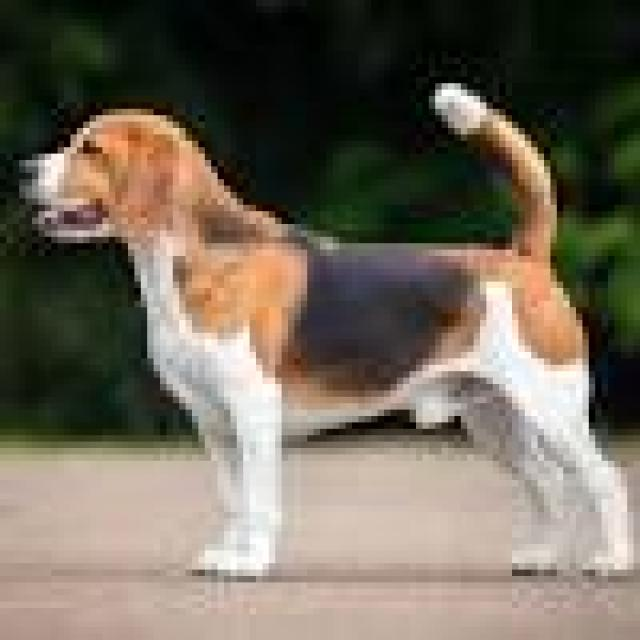Dog: (15, 79, 640, 589)
